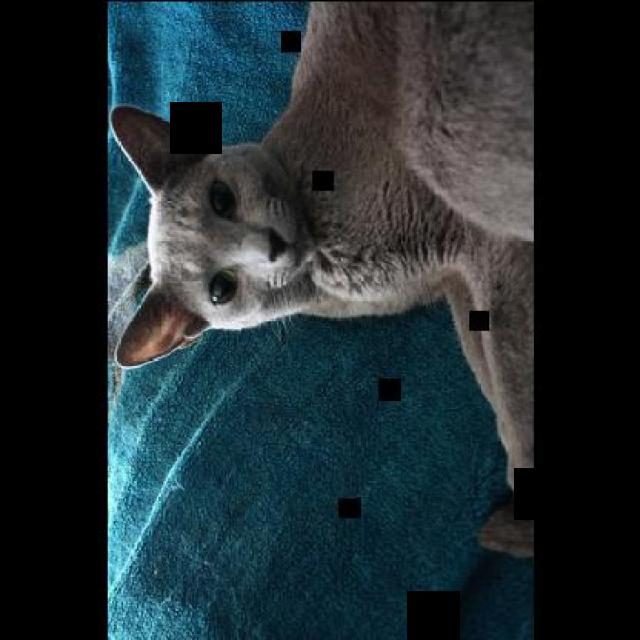unauthorized: (108, 0, 534, 558)
